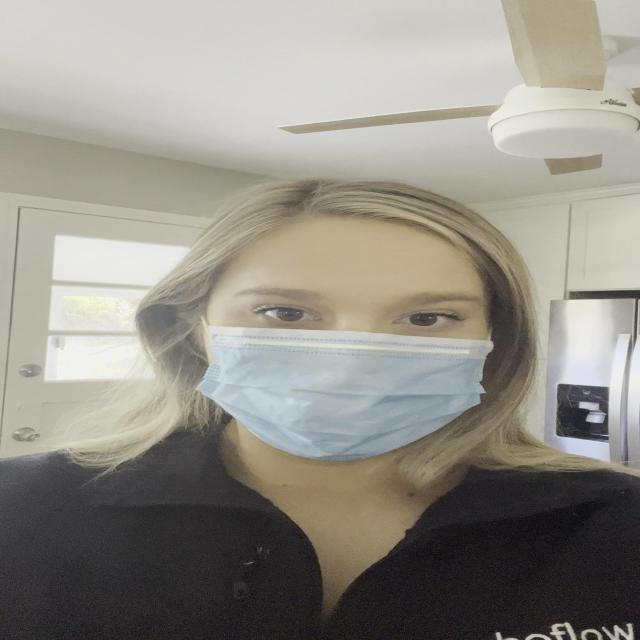no-helmet: (191, 210, 500, 460)
